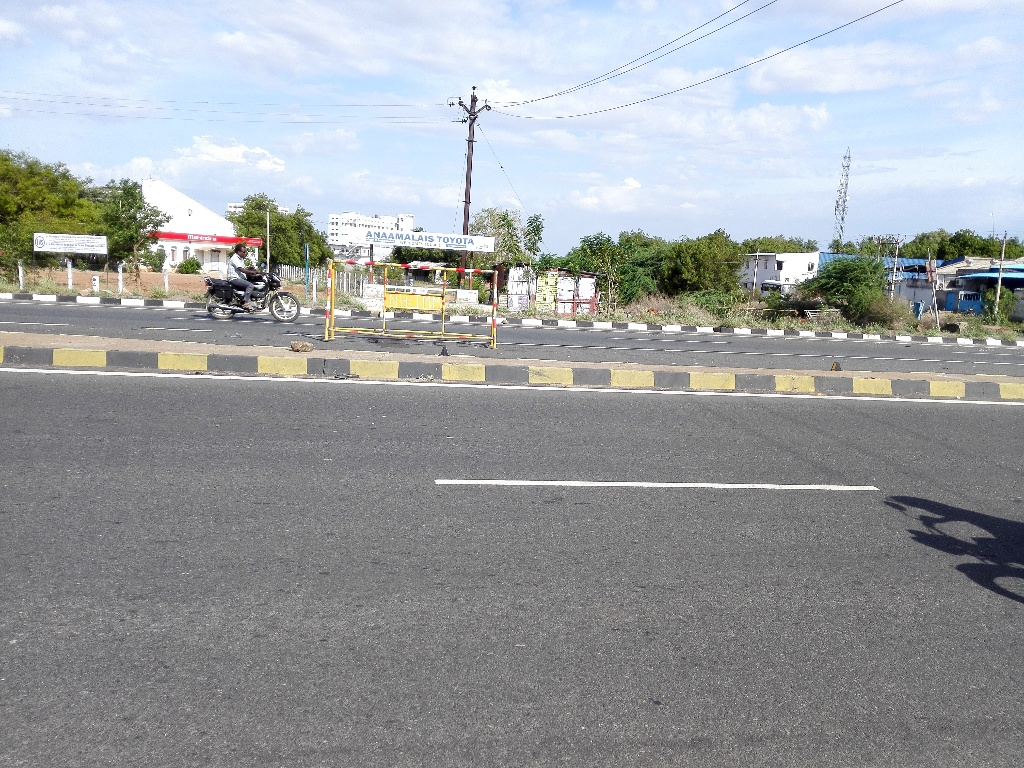biker: (195, 221, 312, 331)
nohelmet: (230, 238, 257, 267)
